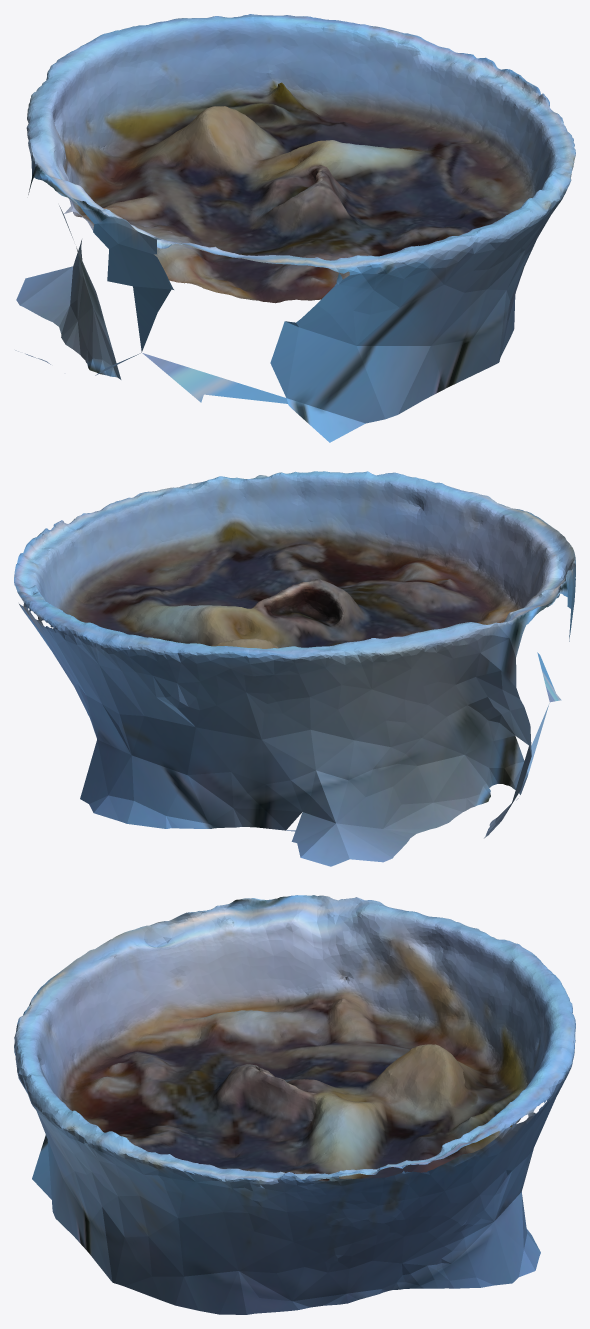
The model's file is imoni3d01.glb.
3 renders of one model, top to bottom at view 1: azimuth 30°, elevation 25°; view 2: azimuth 150°, elevation 25°; view 3: azimuth 270°, elevation 25°, orthographic. The views are drawn at different scales.
Visible parts, largest first — view 1: mesh; view 2: mesh; view 3: mesh.
Boxes of the visible parts, x1,y1,x2,y2 form: mesh: (15, 14, 575, 442); mesh: (14, 471, 575, 866); mesh: (14, 895, 575, 1314).
Size of the model in its own units: 0.1574 by 0.0642 by 0.1507.
Materials: 1 (1 with a texture image).
